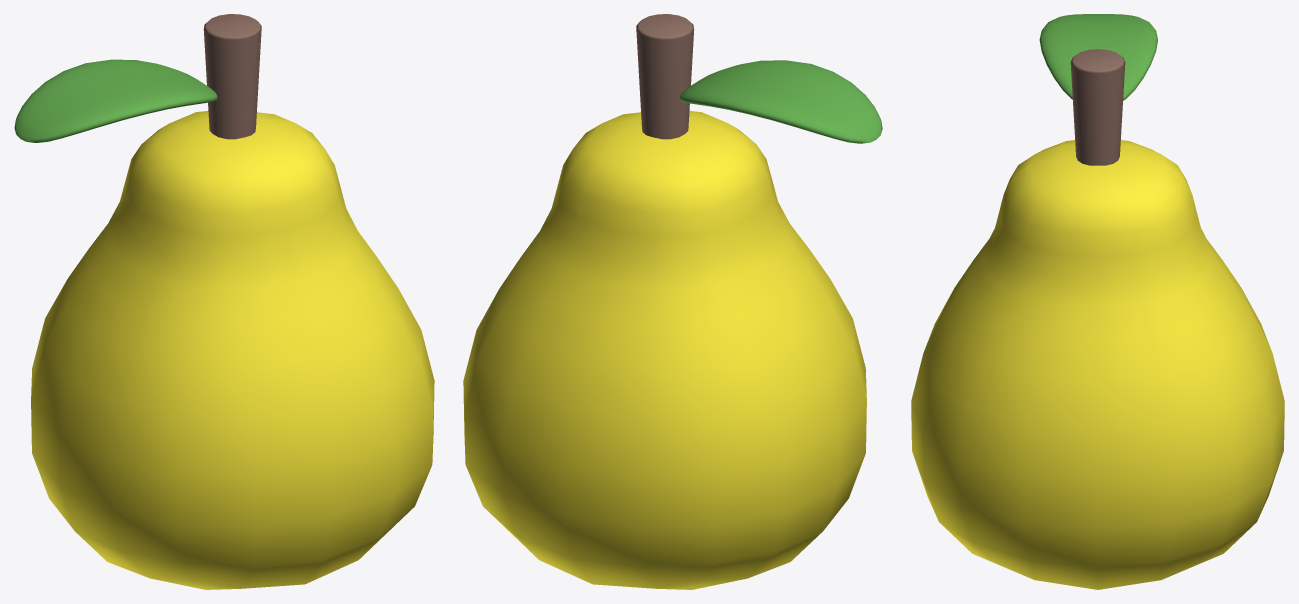
The model's file is Isl_9_Pear_2.fbx.
The picture shows the model from 3 angles, left to right: view 1: azimuth 30°, elevation 25°; view 2: azimuth 150°, elevation 25°; view 3: azimuth 270°, elevation 25°; orthographic projection. The views are drawn at different scales.
Visible parts, largest first — view 1: Isl_9_Pear_2; view 2: Isl_9_Pear_2; view 3: Isl_9_Pear_2.
Boxes of the visible parts, left/top/right/bottom form: Isl_9_Pear_2: left=14, top=14, right=434, bottom=589; Isl_9_Pear_2: left=463, top=14, right=882, bottom=589; Isl_9_Pear_2: left=911, top=14, right=1284, bottom=589.
Bounding box in the file's own units: 28.61 × 38.2 × 25.73.
